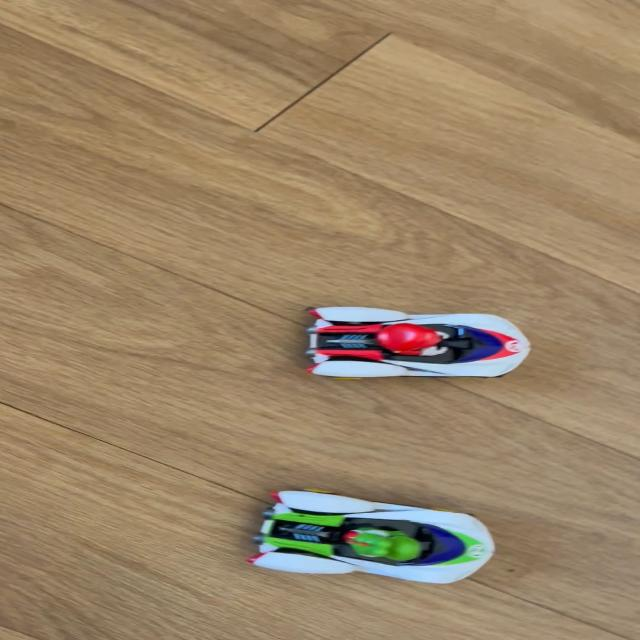mario: (287, 300, 546, 381)
yoshi: (234, 486, 514, 592)
